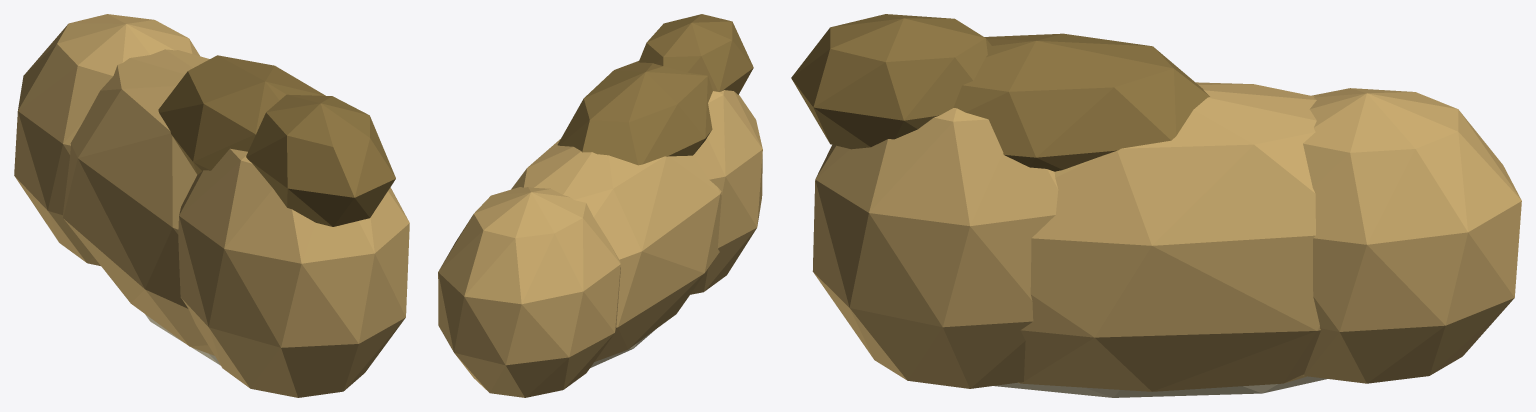
File: wolf_2_body.glb
The picture shows the model from 3 angles, left to right: view 1: azimuth 30°, elevation 25°; view 2: azimuth 150°, elevation 25°; view 3: azimuth 270°, elevation 25°; orthographic projection. The views are drawn at different scales.
Visible parts, largest first — view 1: wolf_2_body; view 2: wolf_2_body; view 3: wolf_2_body.
Part boxes in pixels (x1,y1,x2,y2): wolf_2_body: [14, 14, 409, 397]; wolf_2_body: [438, 14, 762, 397]; wolf_2_body: [791, 14, 1521, 397].
Bounding box in the file's own units: 0.3209 × 0.5 × 0.8838.
